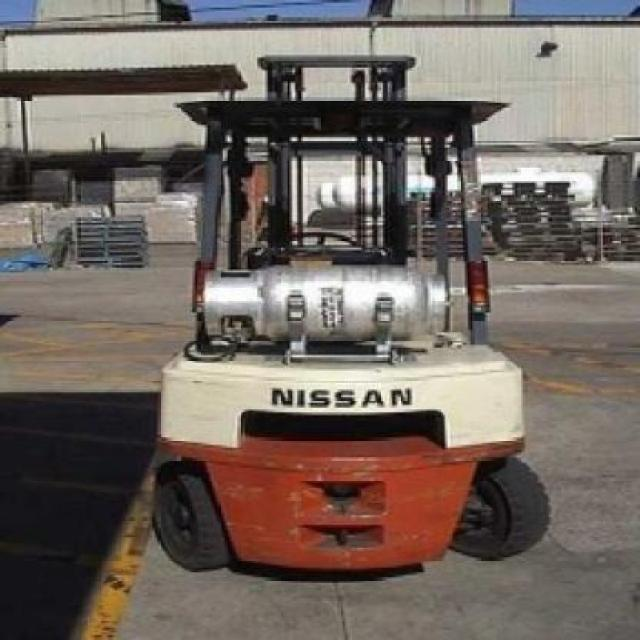forklift: (155, 58, 550, 573)
